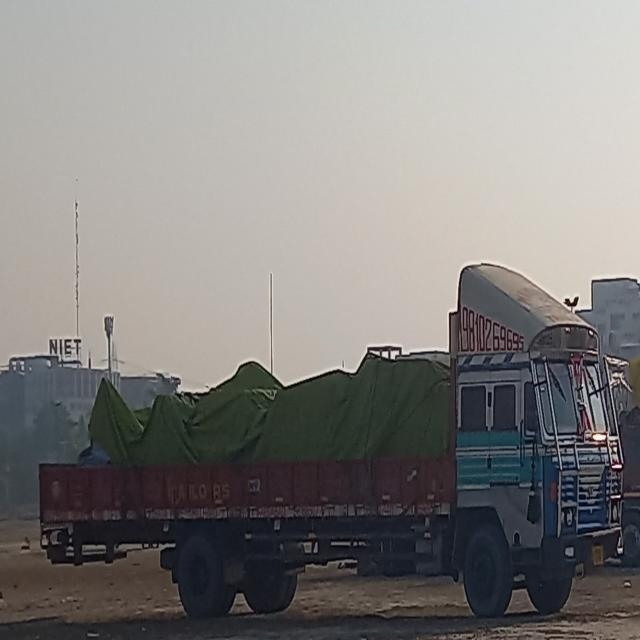covered: (47, 353, 580, 613)
